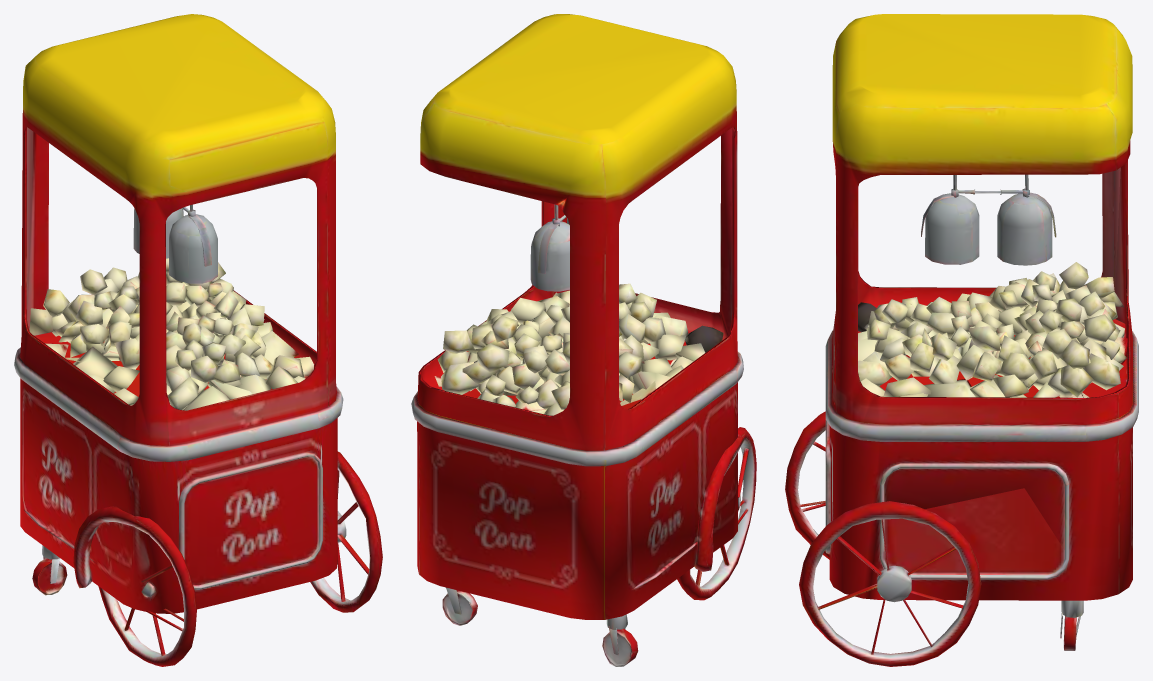
The model's file is popcorn.glb.
3 renders of one model, left to right at view 1: azimuth 30°, elevation 25°; view 2: azimuth 150°, elevation 25°; view 3: azimuth 270°, elevation 25°, orthographic. The views are drawn at different scales.
Bounding box in the file's own units: 0.4424 × 0.9521 × 0.5474.
Materials: 1 (1 with a texture image).
